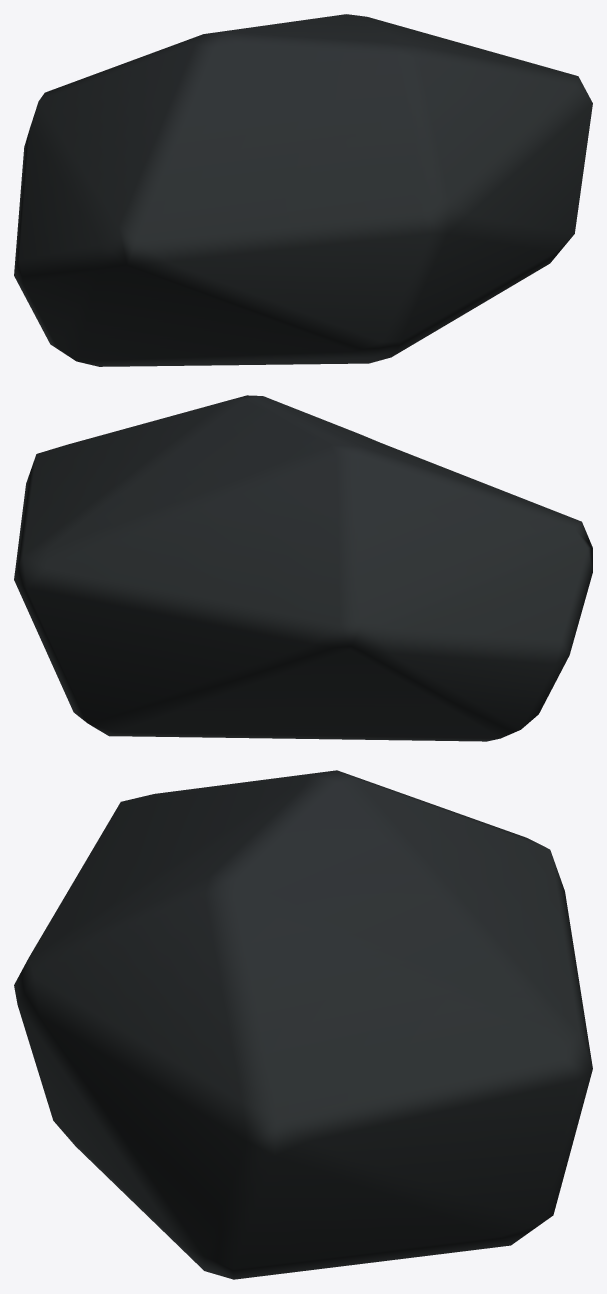
File: inferno-stone-small-001.glb
3 views of the same model, one above another, from view 1: azimuth 30°, elevation 25°; view 2: azimuth 150°, elevation 25°; view 3: azimuth 270°, elevation 25° (orthographic). The views are drawn at different scales.
Visible parts, largest first — view 1: StoneSmall_001; view 2: StoneSmall_001; view 3: StoneSmall_001.
Boxes of the visible parts, <box> form: StoneSmall_001: <box>14,14,592,366</box>; StoneSmall_001: <box>14,395,592,741</box>; StoneSmall_001: <box>14,770,592,1279</box>.
Size of the model in its own units: 2.44 by 1.38 by 1.75.
1 material, 1 textured.
